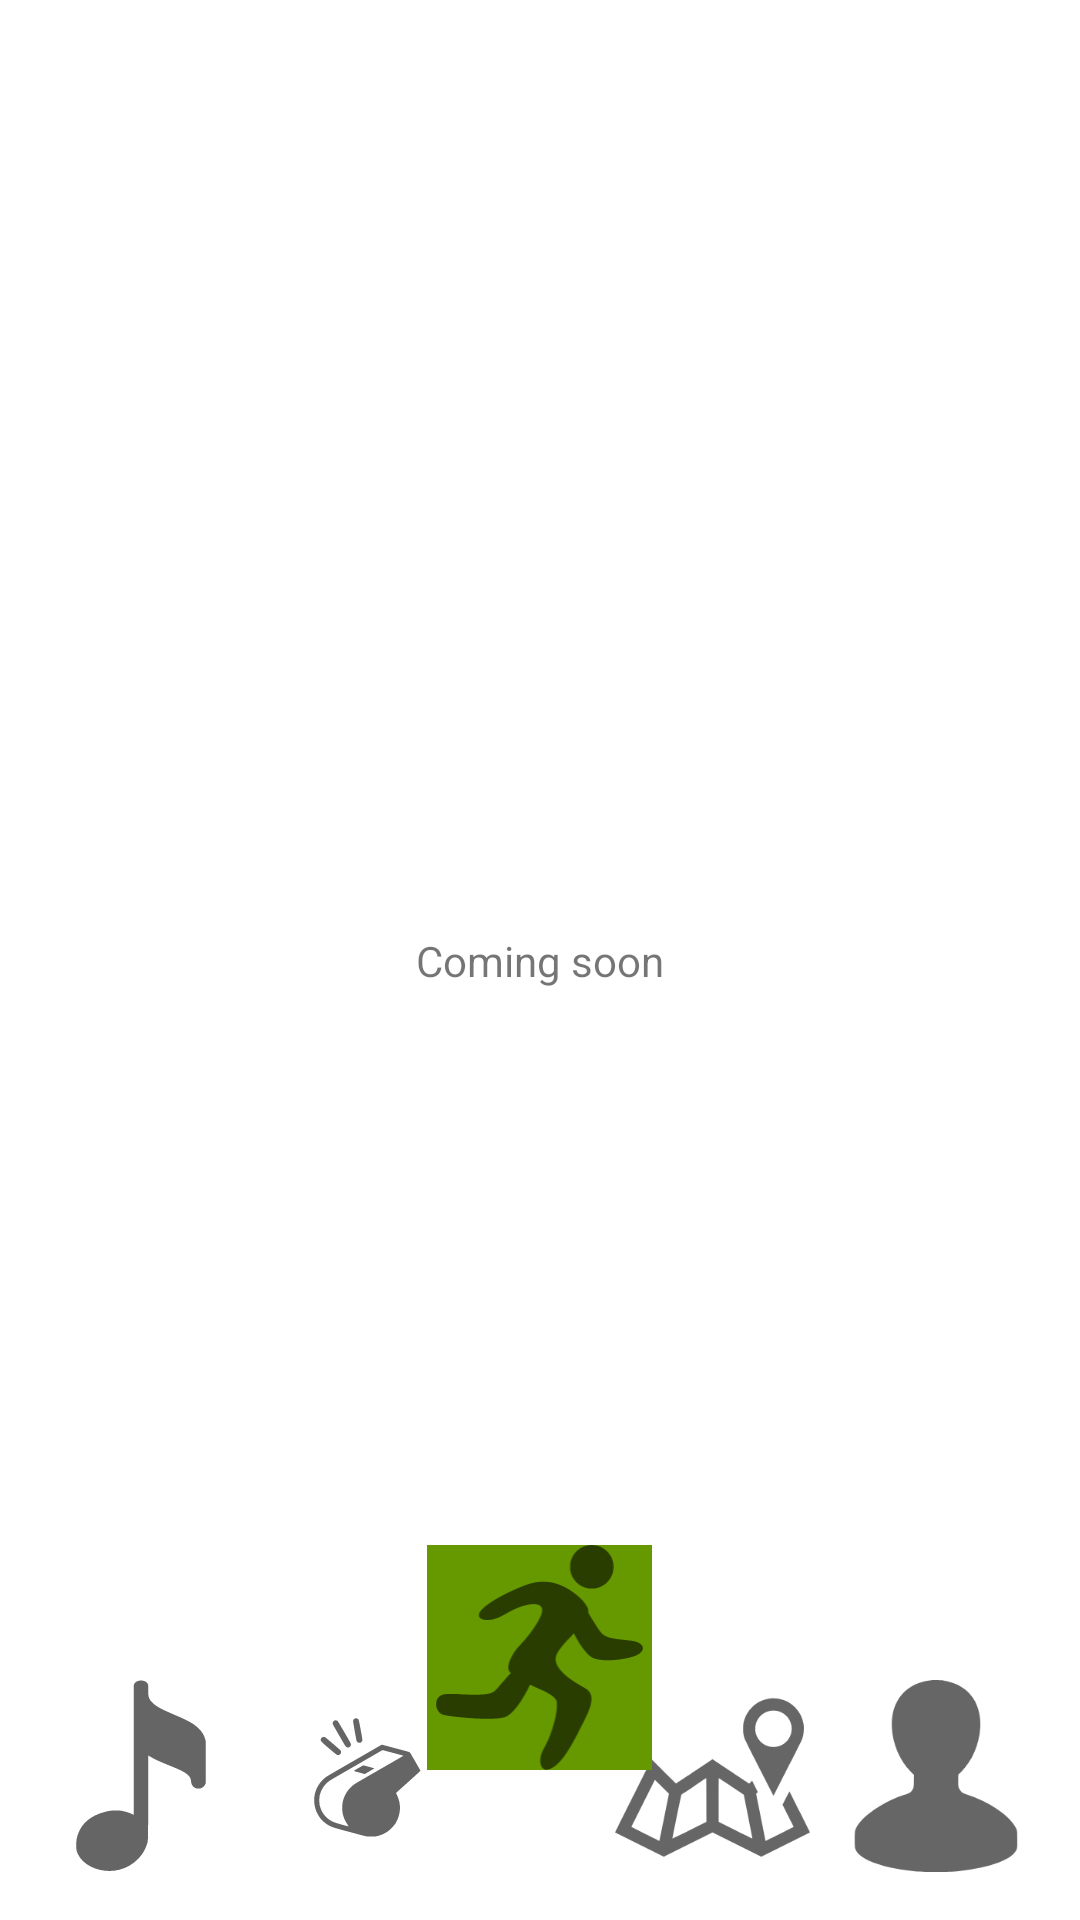

Icons on this 1080px×1920px Android screen, each with its box as (x1, y1, x2, y2):
body: (854, 1680, 1018, 1872)
map: (615, 1680, 810, 1857)
music: (76, 1680, 206, 1871)
run: (427, 1545, 652, 1770)
